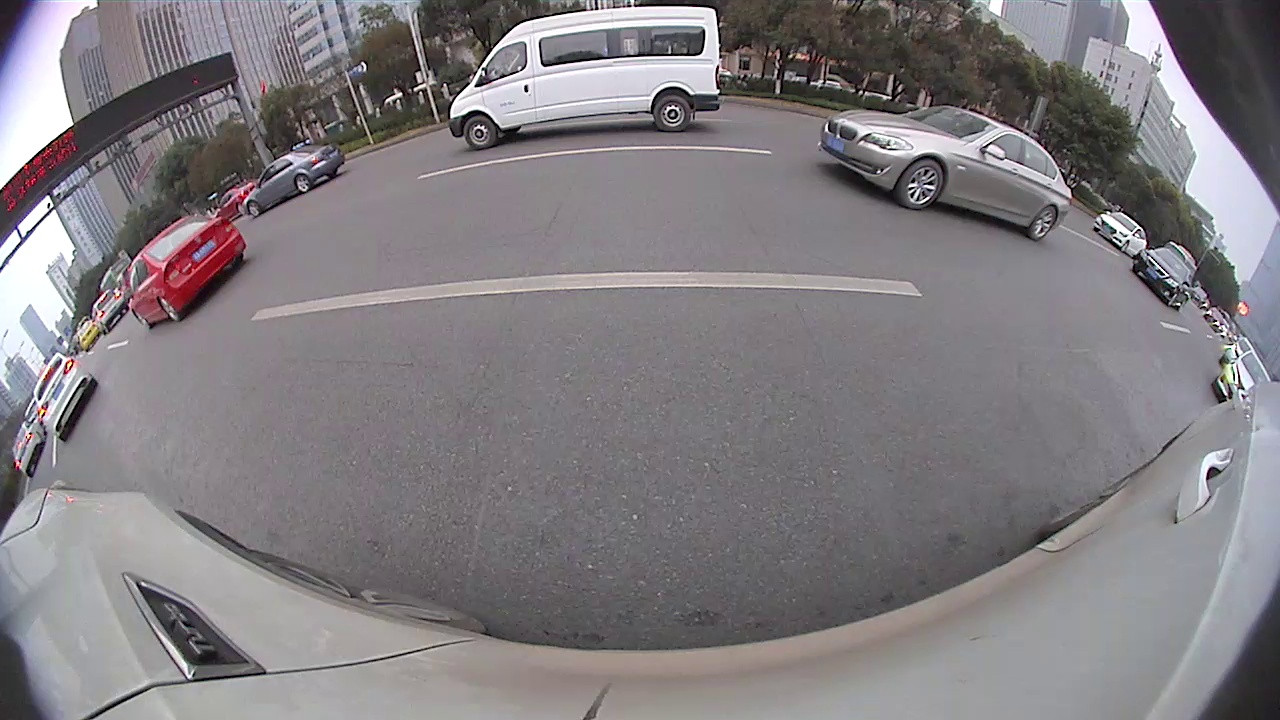car: (820, 77, 1071, 246), (449, 6, 736, 150), (127, 217, 248, 328), (246, 146, 347, 218), (32, 349, 100, 440), (1211, 351, 1267, 412), (1134, 248, 1189, 308), (1093, 212, 1147, 252)
front: (898, 160, 945, 207), (463, 115, 498, 148), (247, 200, 261, 217)
rear: (652, 94, 690, 133), (1027, 205, 1061, 241), (158, 297, 183, 323), (294, 173, 311, 193)
